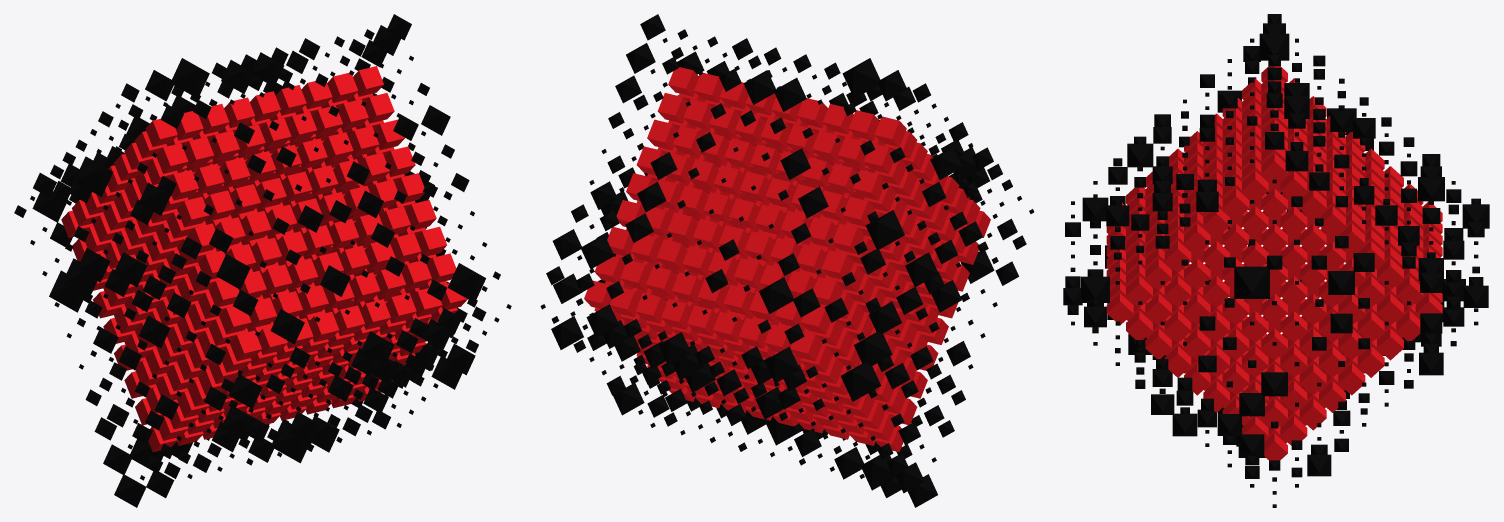
The model's file is Planet22.glb.
3 views of the same model, side by side, from view 1: azimuth 30°, elevation 25°; view 2: azimuth 150°, elevation 25°; view 3: azimuth 270°, elevation 25° (orthographic). The views are drawn at different scales.
Parts seen in each view (by area): view 1: Planet_22_fix; view 2: Planet_22_fix; view 3: Planet_22_fix.
Part boxes in pixels (x1,y1,x2,y2): Planet_22_fix: (14, 14, 511, 507); Planet_22_fix: (540, 14, 1033, 507); Planet_22_fix: (1063, 14, 1489, 507).
Size of the model in its own units: 3.49 by 4.53 by 4.48.
